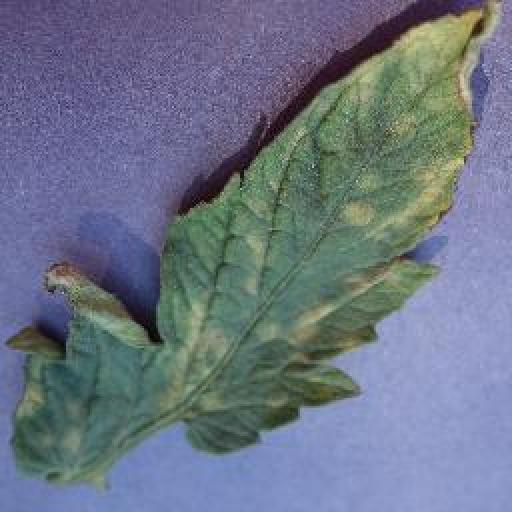disease_tomato: (7, 0, 499, 492)
